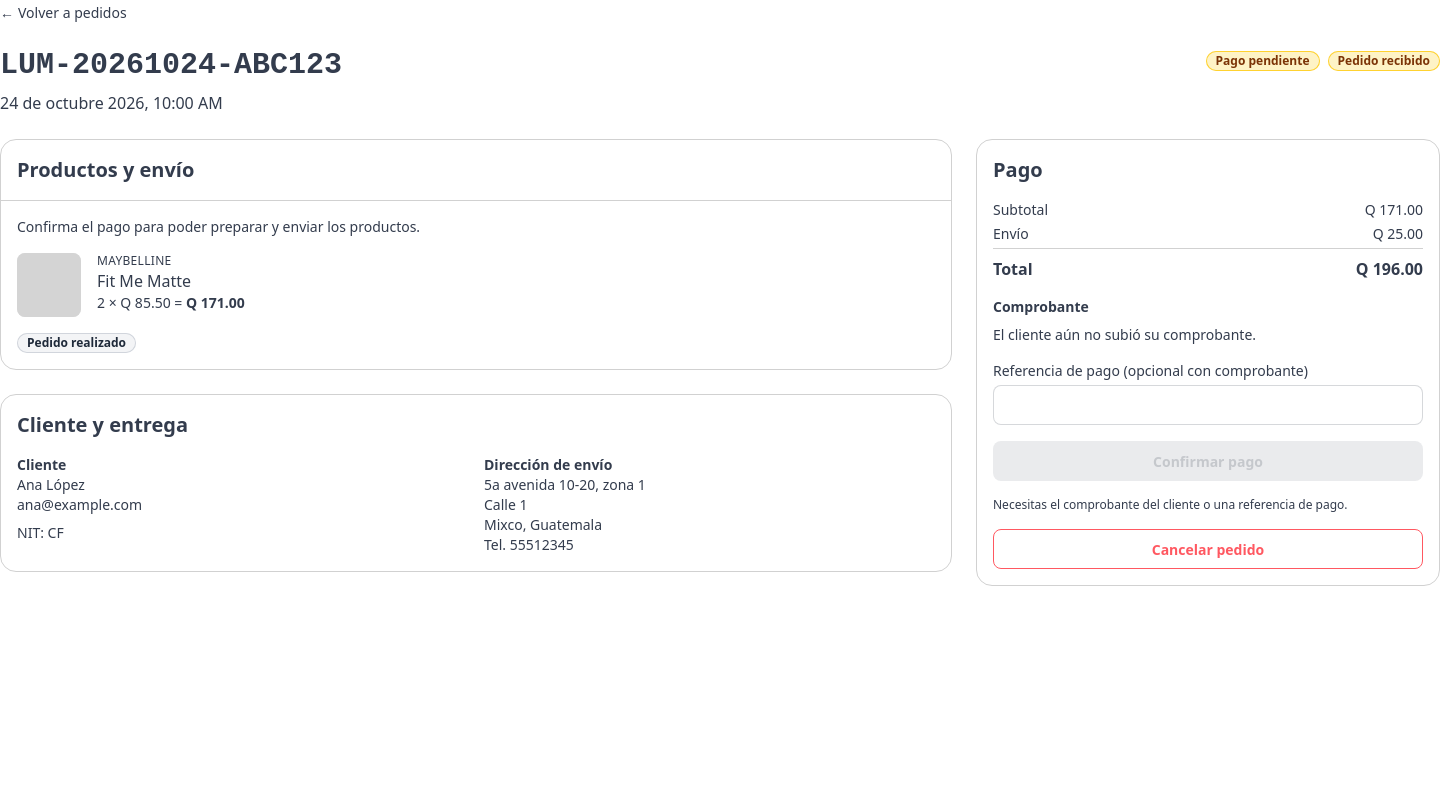
Test case: OrderAdminPageComponent (detalle administrativo) › cancelar un pedido sin pagar envía el motivo y deja el pedido cancelado
This screenshot has width=1440, height=810.
Click the button "Cancelar pedido" at (1208, 549), box [993,529,1423,569]
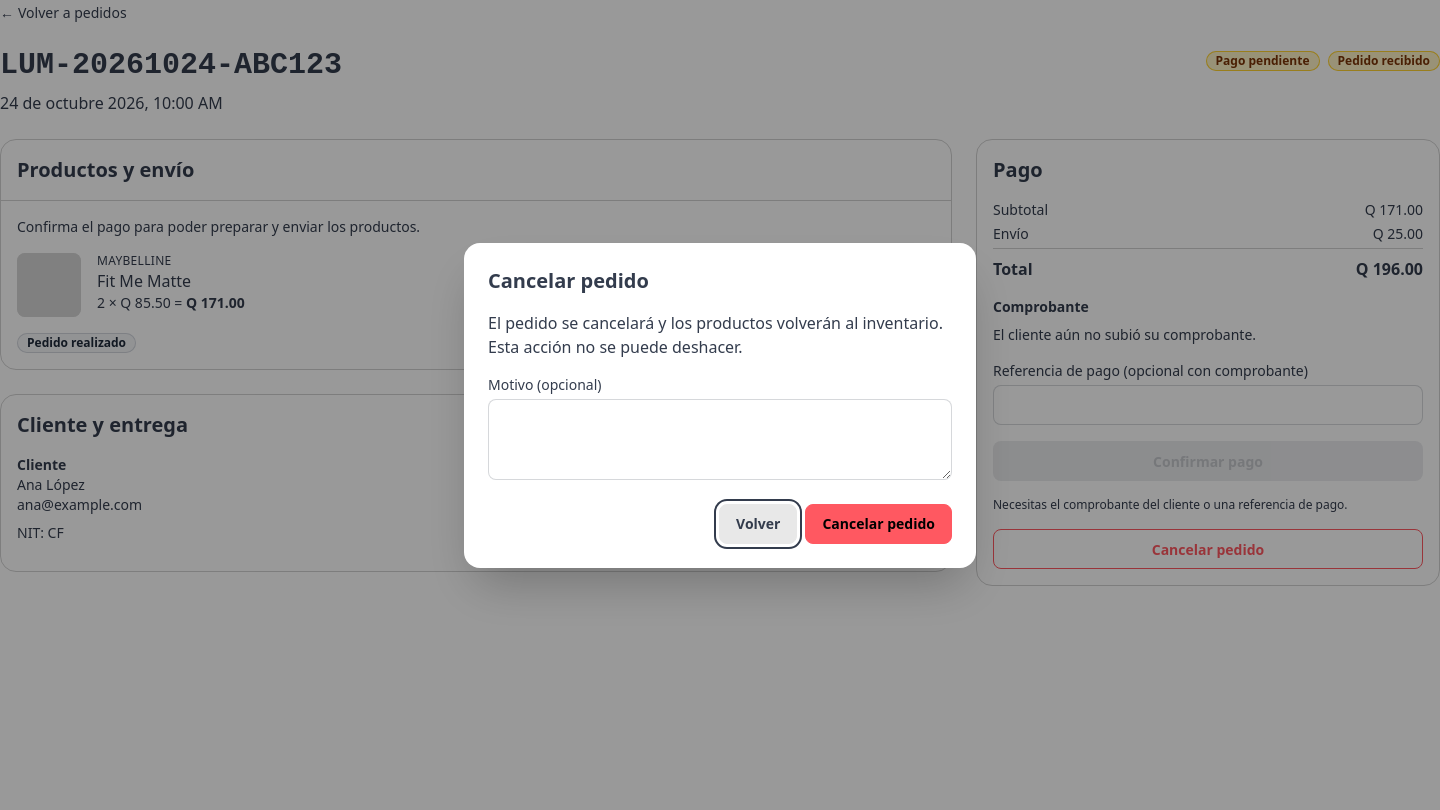
Type "Cliente no respondió" into the text box with id "action-reason" at (720, 439), box [488,398,952,480]
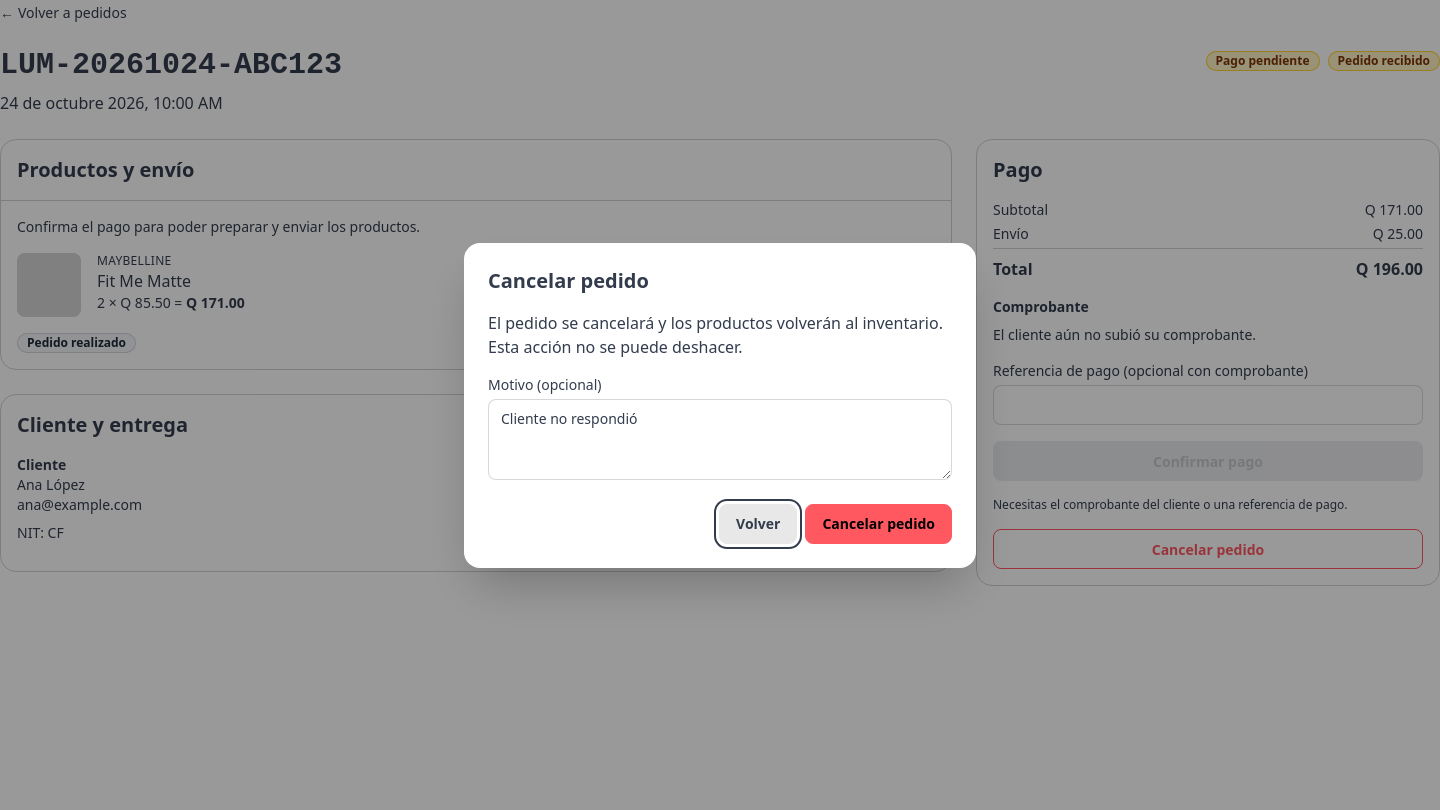
Click the button "Cancelar pedido" at (879, 524), box [805,504,952,544]
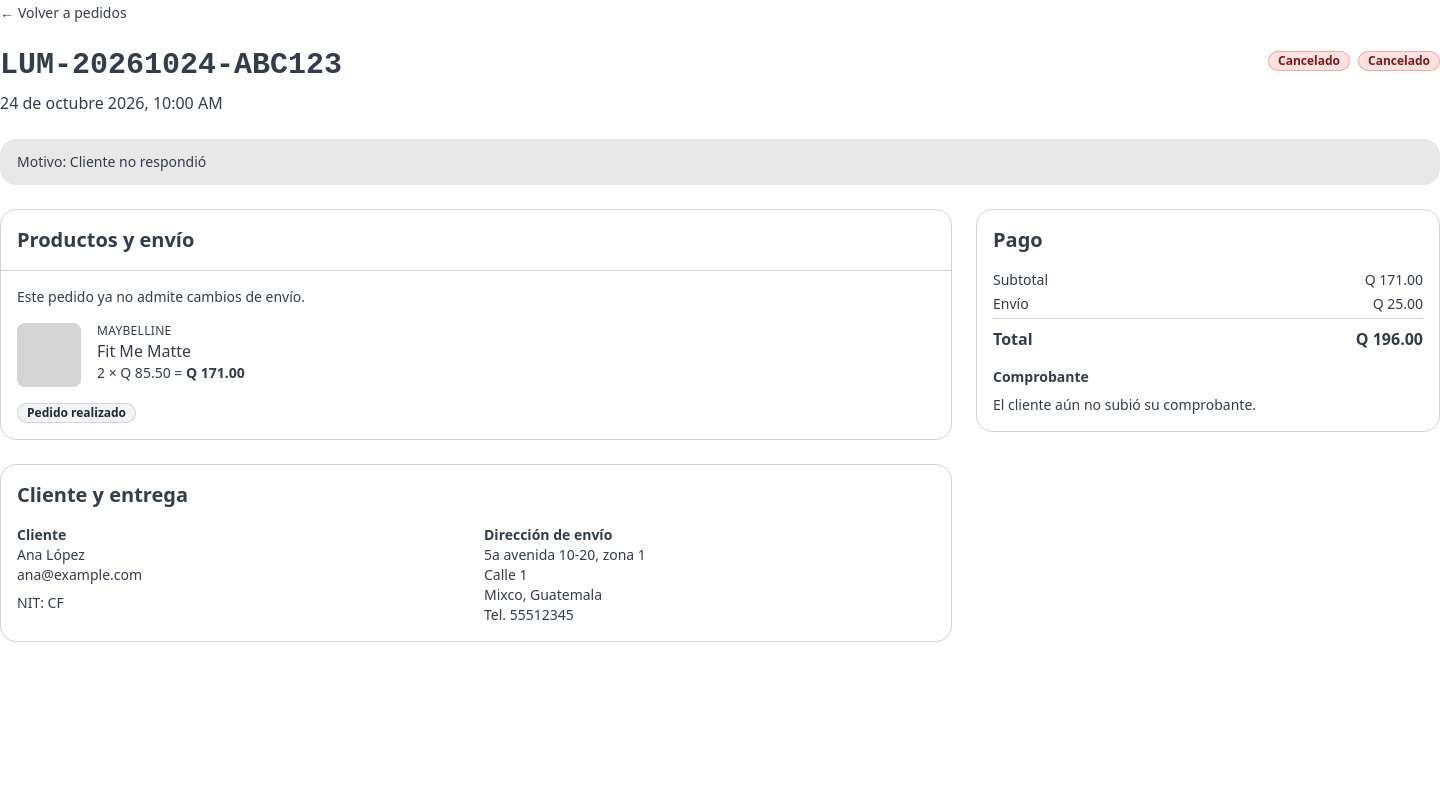
Check: the text "Motivo: Cliente no respondió" is shown, box [0,139,1439,185]
